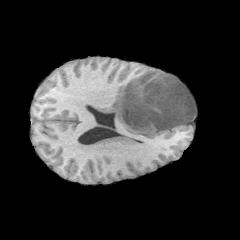glioma: (86, 70, 185, 137)
